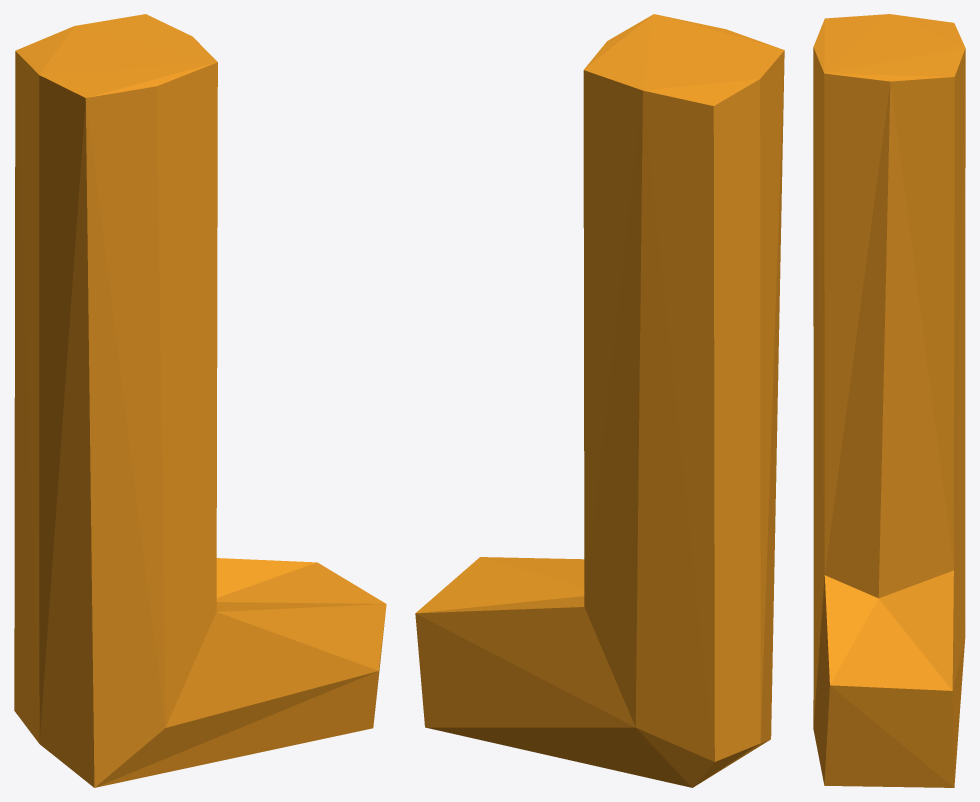
Rendered from SM_Icon_Letter_L_01.fbx.
The picture shows the model from 3 angles, left to right: view 1: azimuth 30°, elevation 25°; view 2: azimuth 150°, elevation 25°; view 3: azimuth 270°, elevation 25°; orthographic projection. The views are drawn at different scales.
Visible parts, largest first — view 1: SM_Icon_Letter_L_01; view 2: SM_Icon_Letter_L_01; view 3: SM_Icon_Letter_L_01.
Boxes of the visible parts, x1,y1,x2,y2 form: SM_Icon_Letter_L_01: [14, 14, 386, 787]; SM_Icon_Letter_L_01: [415, 14, 784, 787]; SM_Icon_Letter_L_01: [813, 14, 965, 787].
Size of the model in its own units: 24.84 by 53.16 by 11.39.
